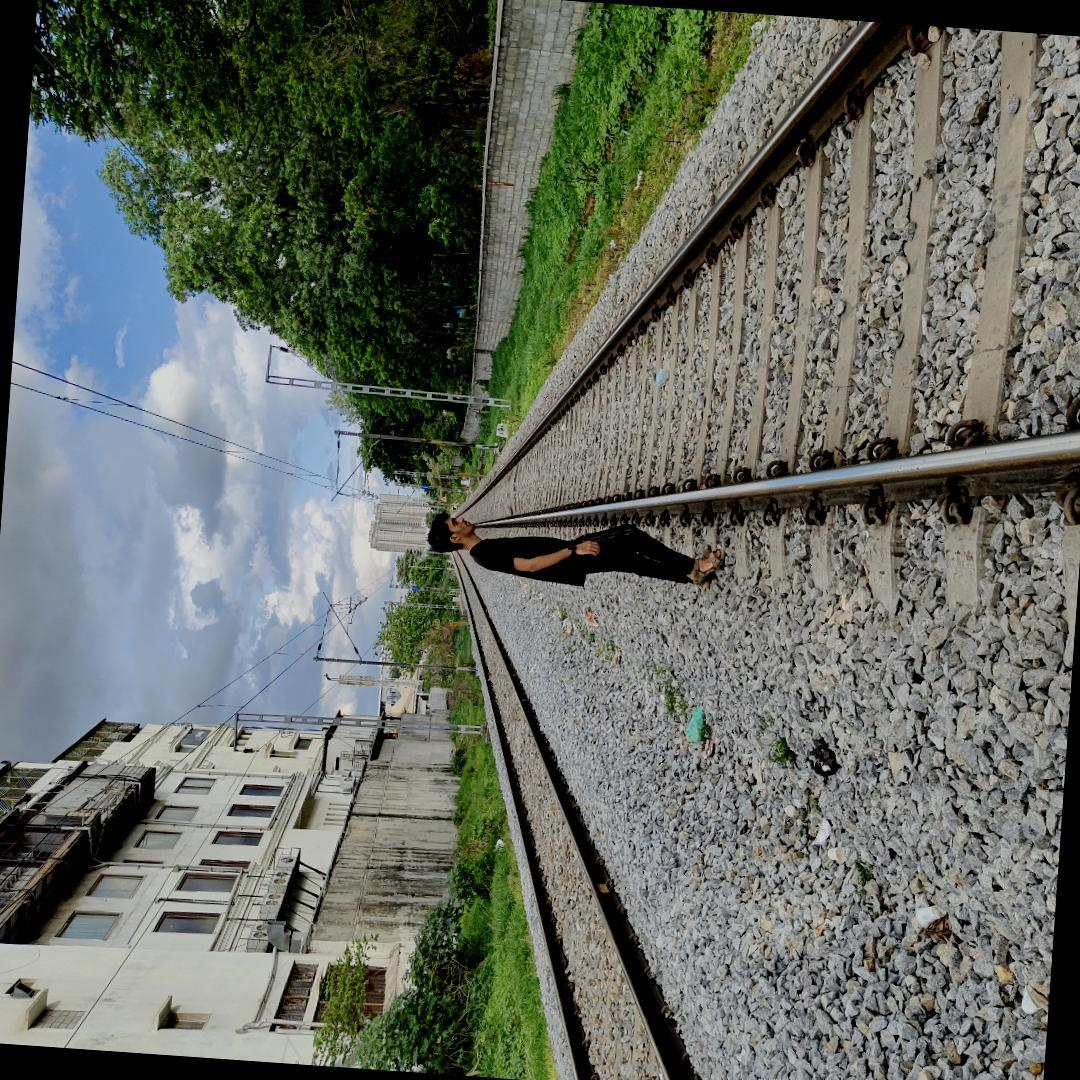standing: (432, 496, 736, 620)
